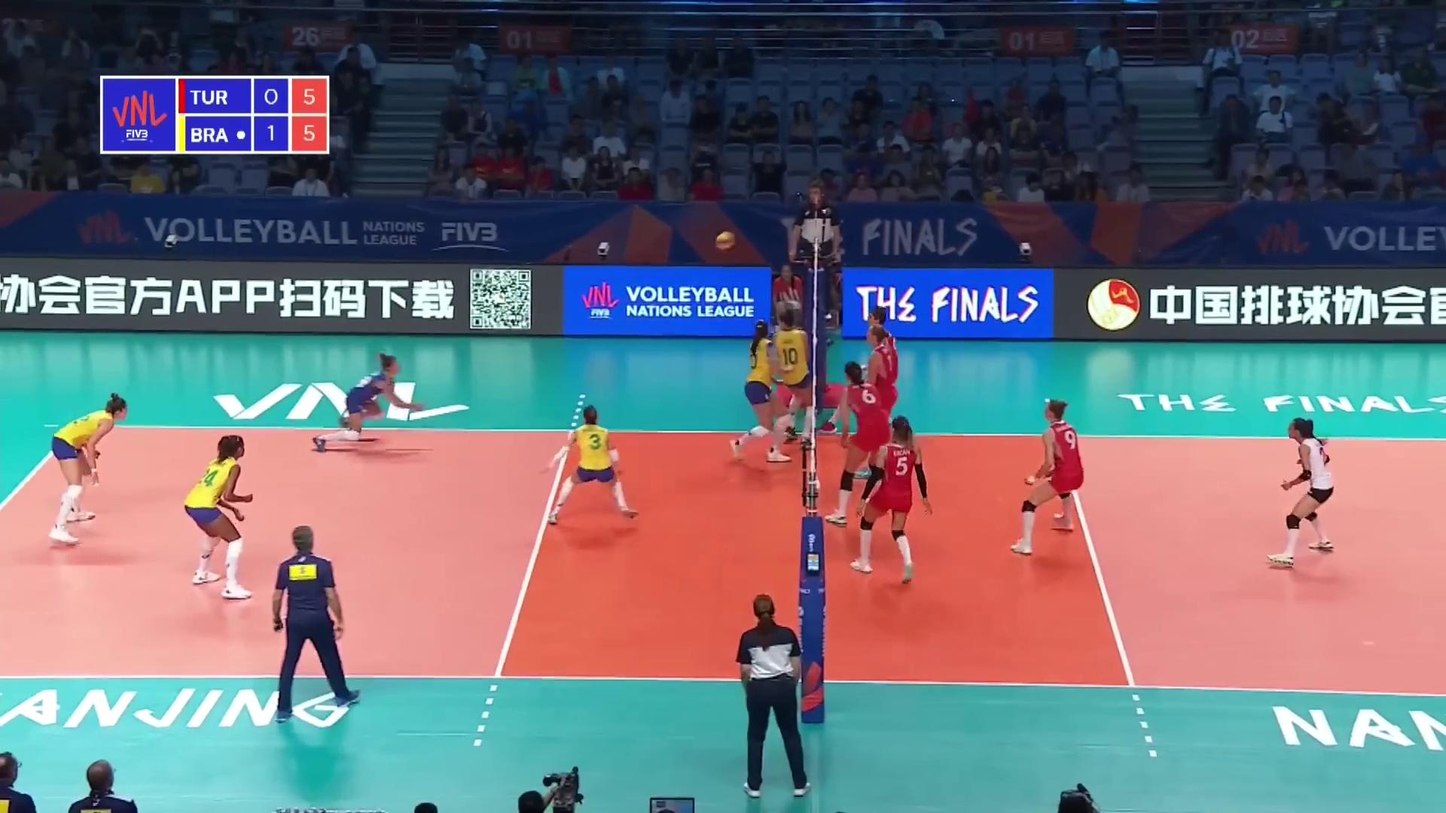player: (849, 416, 930, 584), (46, 397, 129, 547), (185, 432, 256, 601), (543, 405, 638, 525), (314, 356, 428, 452), (1013, 400, 1084, 554), (829, 361, 894, 522), (1275, 418, 1338, 567), (827, 306, 900, 431), (728, 324, 788, 464), (853, 328, 898, 478), (774, 309, 813, 445)
refree: (733, 596, 805, 794), (789, 184, 842, 321)
